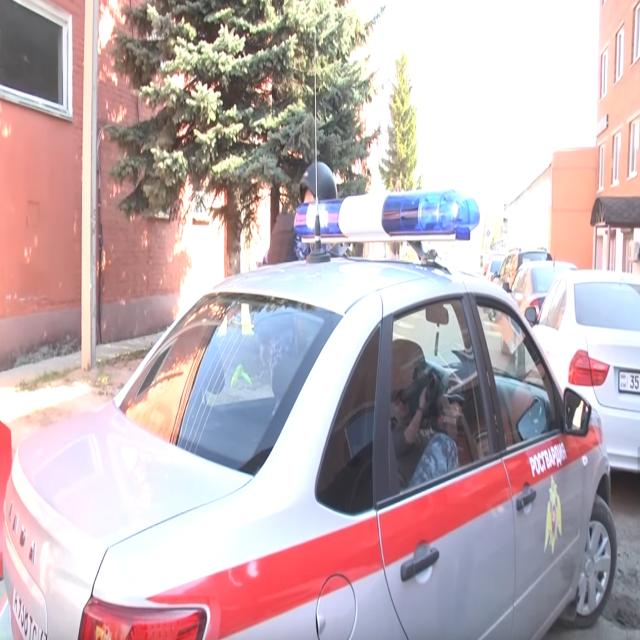non emergency car: (528, 268, 640, 476)
police car: (1, 189, 618, 640)
